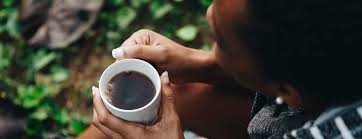cup: (98, 58, 161, 113)
